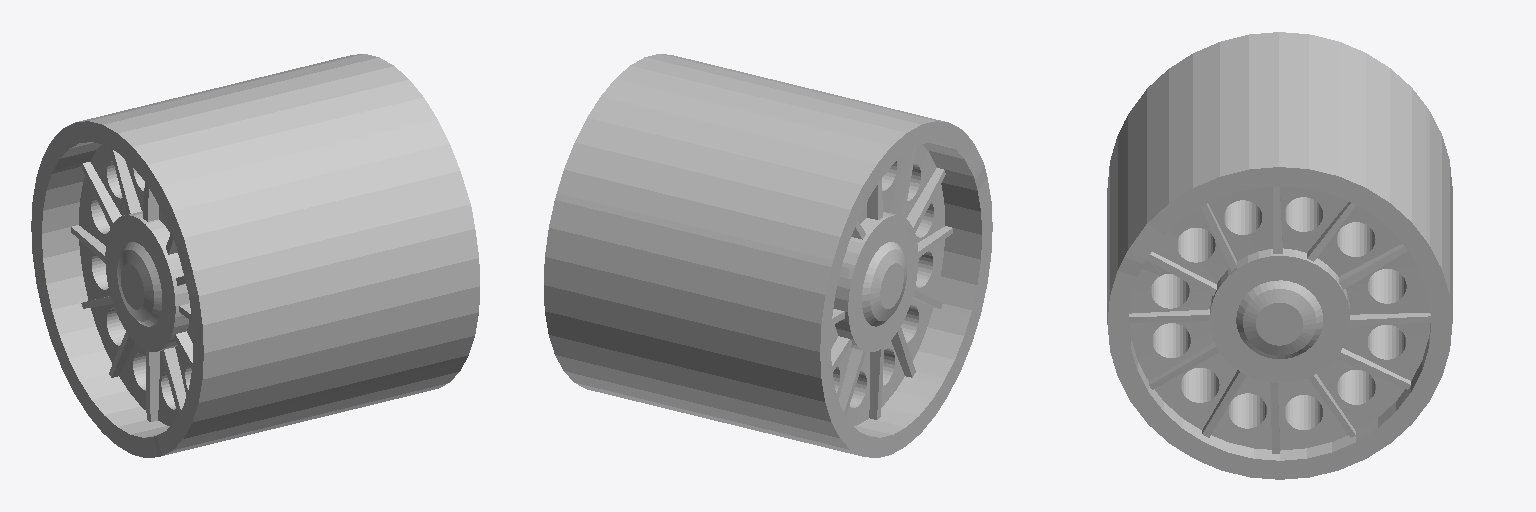
The model's file is koloSv2.obj.
The picture shows the model from 3 angles: view 1: azimuth 30°, elevation 25°; view 2: azimuth 150°, elevation 25°; view 3: azimuth 270°, elevation 25°; orthographic projection.
Parts seen in each view (by area): view 1: koła_duże.002_Cylinder.002; view 2: koła_duże.002_Cylinder.002; view 3: koła_duże.002_Cylinder.002.
Part boxes in pixels (left/top/right/bottom): koła_duże.002_Cylinder.002: left=31, top=54, right=479, bottom=457; koła_duże.002_Cylinder.002: left=544, top=54, right=992, bottom=457; koła_duże.002_Cylinder.002: left=1107, top=32, right=1452, bottom=479.
Bounding box in the file's own units: 0.6095 × 0.6553 × 0.6553.